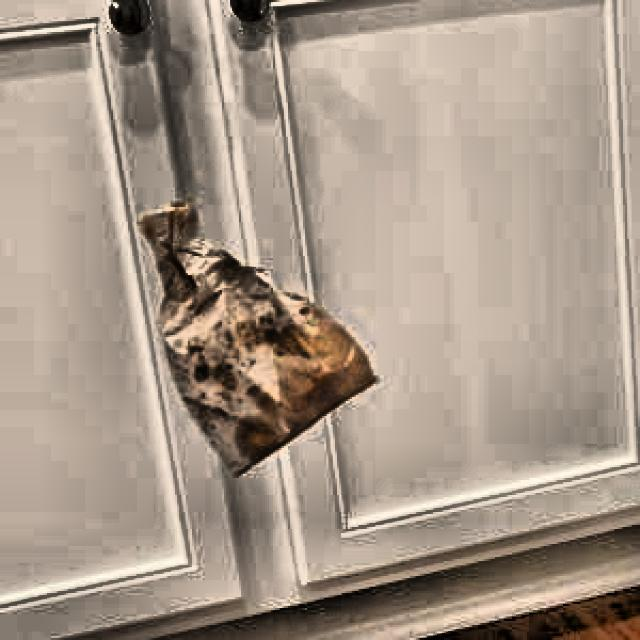Paper-bag: (117, 201, 386, 492)
